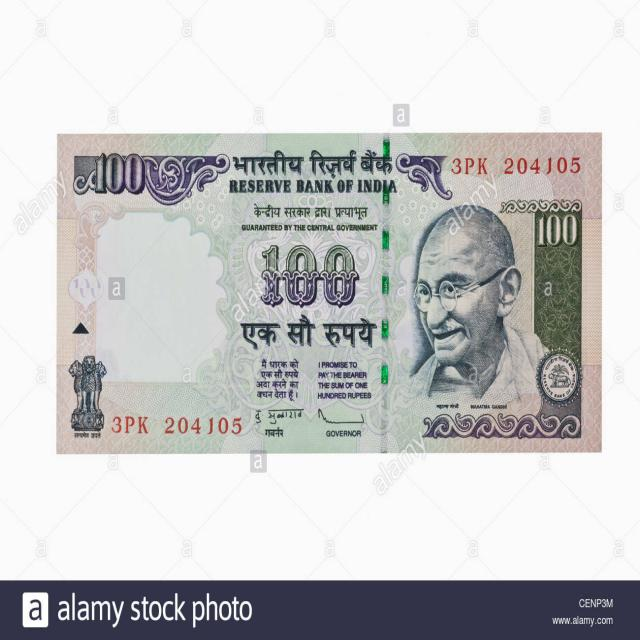100IndianRupees: (60, 131, 598, 456)
